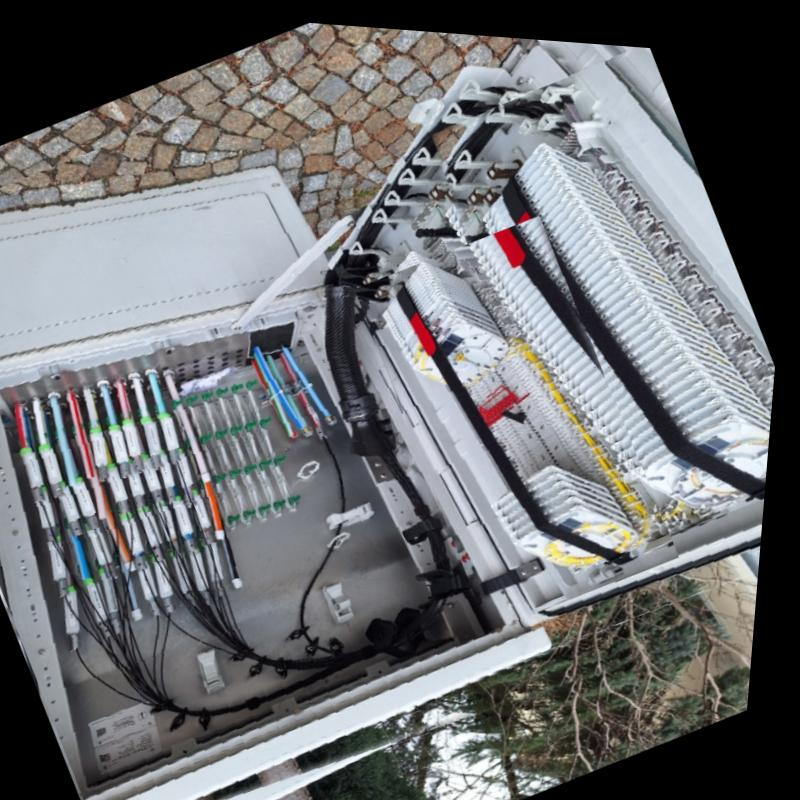NT-Gehause: (0, 30, 780, 800)
Spleiskassetten: (452, 80, 778, 512), (369, 258, 676, 593)
